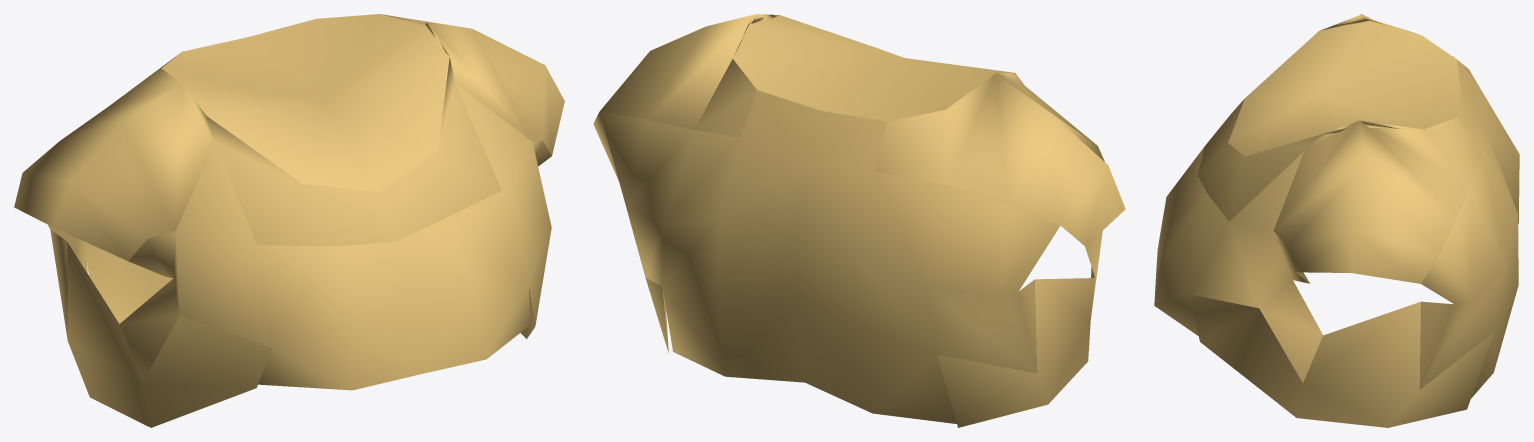
The model's file is spine2.glb.
3 renders of one model, left to right at view 1: azimuth 30°, elevation 25°; view 2: azimuth 150°, elevation 25°; view 3: azimuth 270°, elevation 25°, orthographic. The views are drawn at different scales.
Visible parts, largest first — view 1: sweater-yellow_SPINE2; view 2: sweater-yellow_SPINE2; view 3: sweater-yellow_SPINE2.
Part boxes in pixels (x1,y1,x2,y2): sweater-yellow_SPINE2: [14, 14, 564, 427]; sweater-yellow_SPINE2: [593, 14, 1125, 427]; sweater-yellow_SPINE2: [1154, 14, 1519, 427].
Bounding box in the file's own units: 0.4746 × 0.2791 × 0.3328.
1 material, 1 textured.
